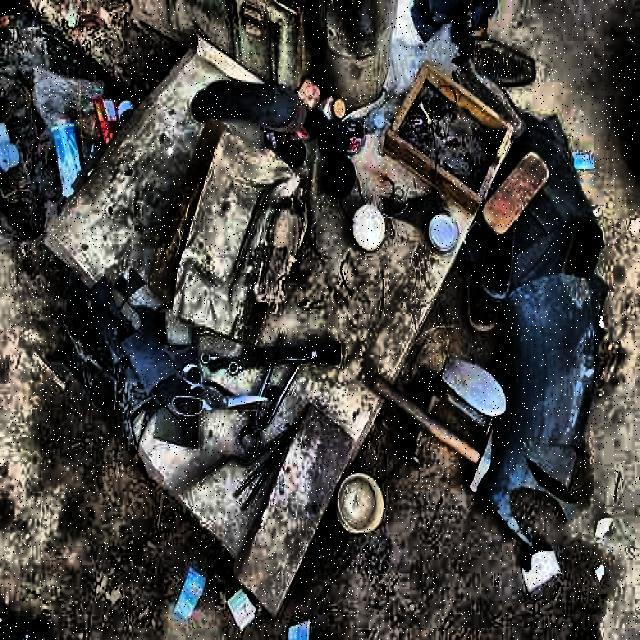hammer: (372, 374, 496, 494)
